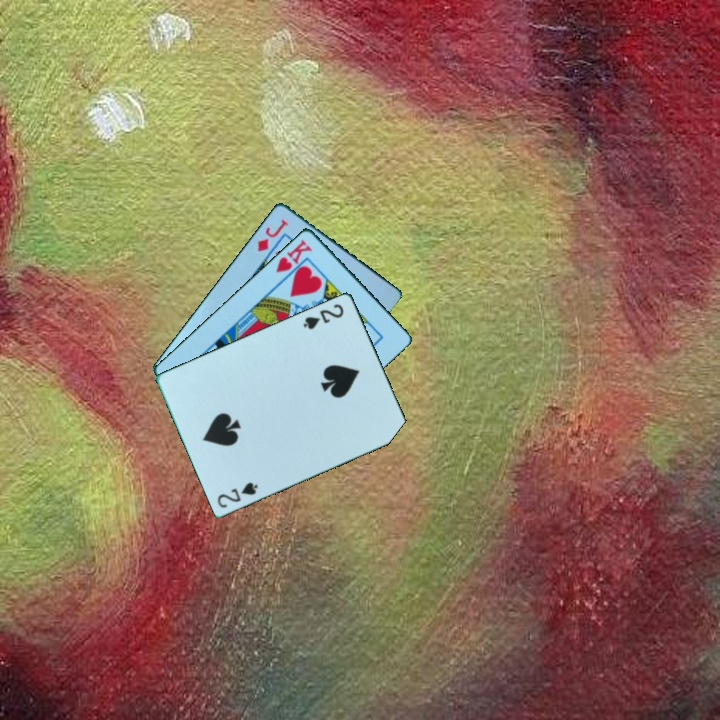2s: (299, 300, 347, 332), (214, 478, 261, 510)
Jd: (253, 215, 292, 255)
Kh: (272, 235, 315, 275)
